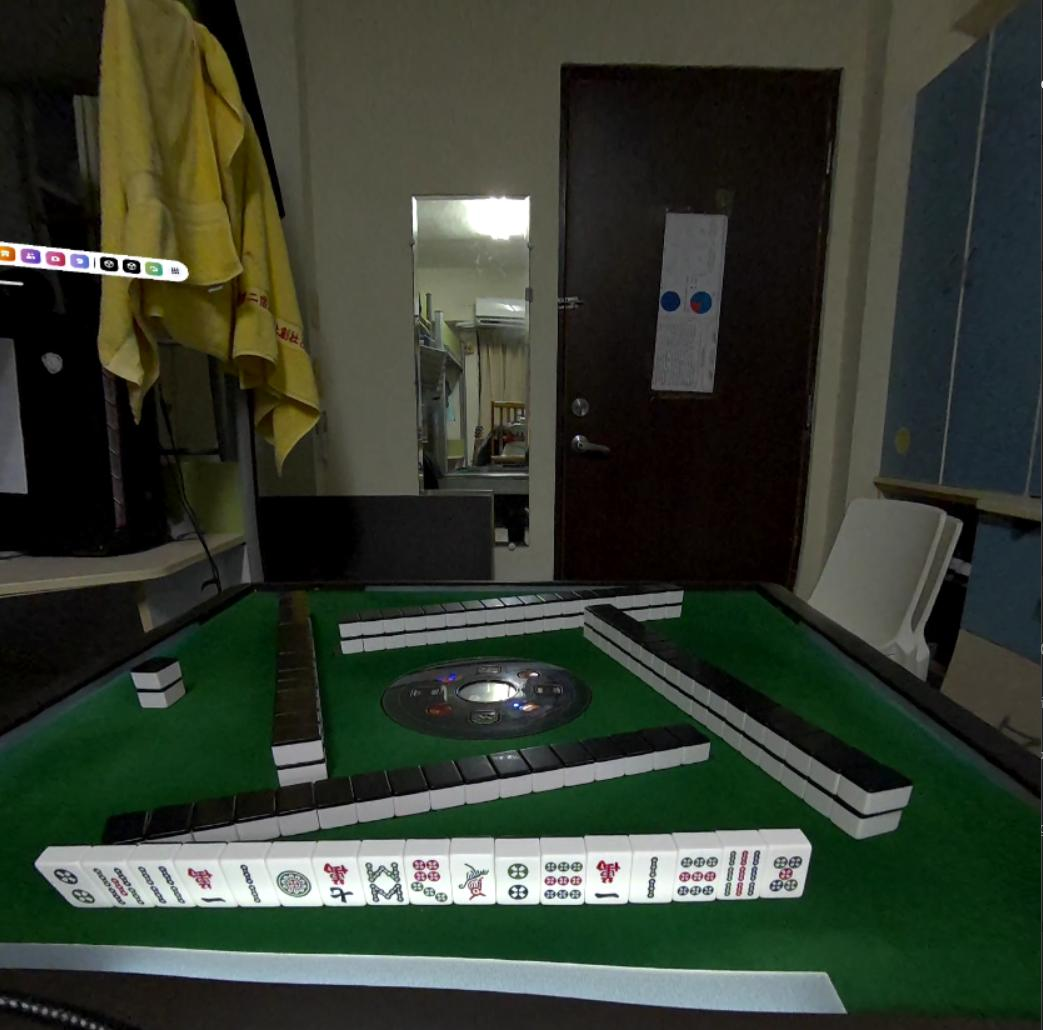mahjong: (673, 844, 724, 904), (40, 865, 102, 908), (630, 845, 676, 902), (358, 850, 404, 906), (220, 860, 271, 910), (588, 849, 631, 908), (722, 844, 767, 900), (92, 860, 144, 908), (408, 852, 450, 911), (770, 844, 814, 899), (317, 855, 359, 912), (183, 859, 228, 910), (493, 859, 538, 910), (268, 859, 312, 910), (453, 852, 491, 910), (543, 855, 583, 910), (135, 862, 184, 906)
